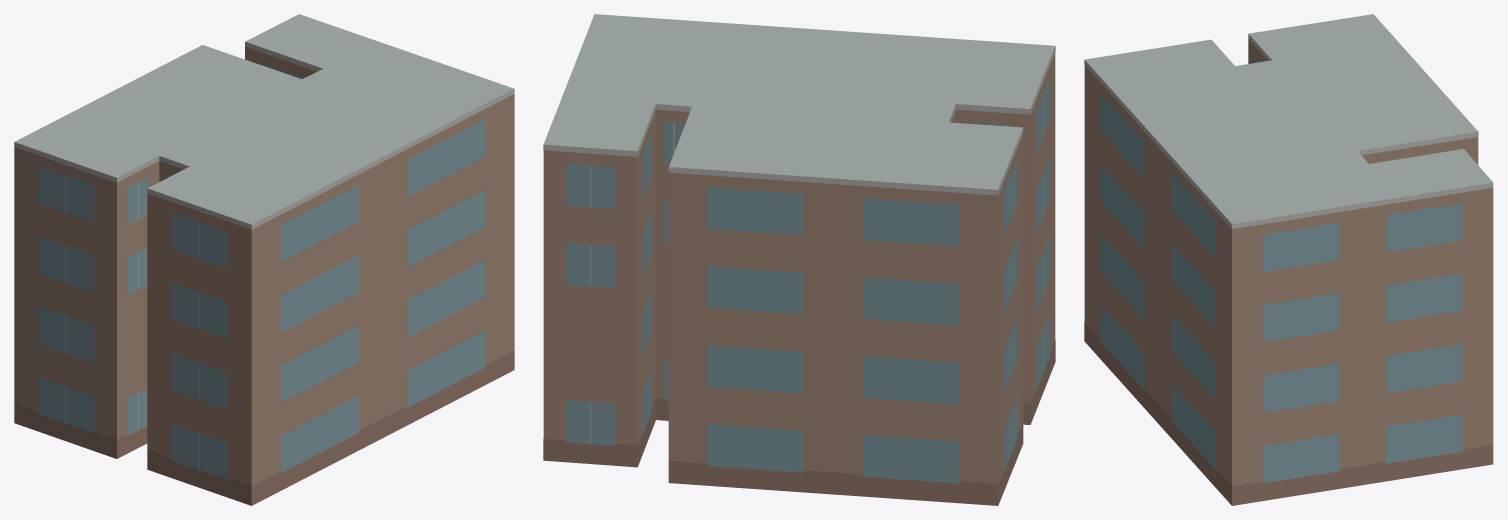
The model's file is survey-upis-32943130.glb.
3 renders of one model, left to right at view 1: azimuth 30°, elevation 25°; view 2: azimuth 150°, elevation 25°; view 3: azimuth 270°, elevation 25°, orthographic. The views are drawn at different scales.
Visible parts, largest first — view 1: survey-upis-32943130.tmp; view 2: survey-upis-32943130.tmp; view 3: survey-upis-32943130.tmp.
Part boxes in pixels (x1=…): survey-upis-32943130.tmp: x1=14, y1=14, x2=514, y2=505; survey-upis-32943130.tmp: x1=543, y1=14, x2=1055, y2=505; survey-upis-32943130.tmp: x1=1084, y1=14, x2=1493, y2=505.
Size of the model in its own units: 21.94 by 13.71 by 18.04.
